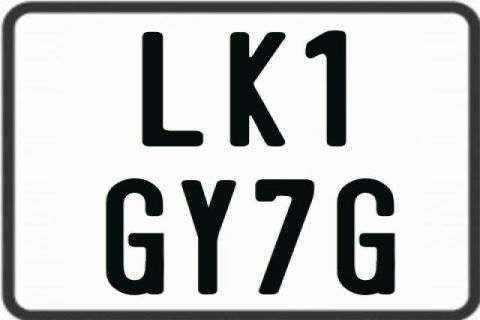0: (255, 178, 320, 296), (304, 30, 350, 146)
G: (336, 176, 400, 296), (104, 176, 166, 298)
K: (227, 32, 289, 146)
L: (140, 31, 204, 147)
Y: (180, 178, 236, 294)
